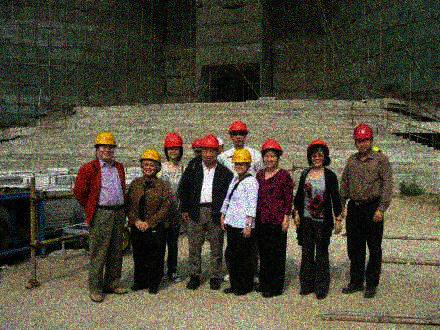helmet: (306, 139, 331, 168), (352, 122, 374, 154), (93, 131, 116, 161), (260, 139, 283, 169), (138, 150, 163, 176), (226, 120, 250, 147), (162, 133, 185, 161), (200, 134, 219, 165), (230, 148, 251, 175)
